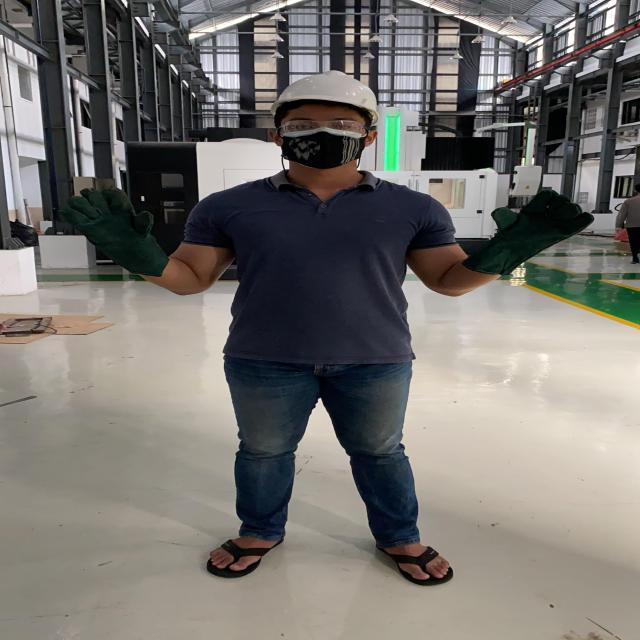face_mask: (278, 115, 372, 167)
glasses: (271, 117, 373, 136)
hand_glove: (482, 186, 602, 256), (52, 181, 163, 251)
head_helmet: (265, 67, 381, 113)
person: (56, 64, 590, 597)
